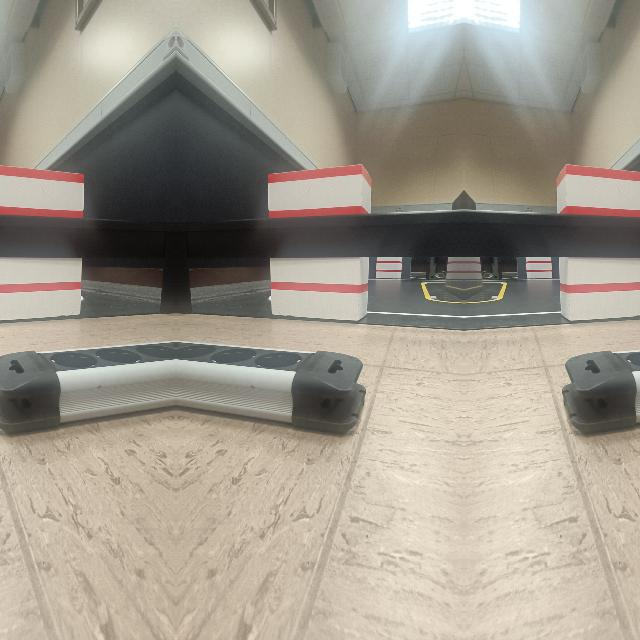obstacle: (177, 342, 363, 440), (0, 342, 173, 440), (564, 342, 640, 440)
